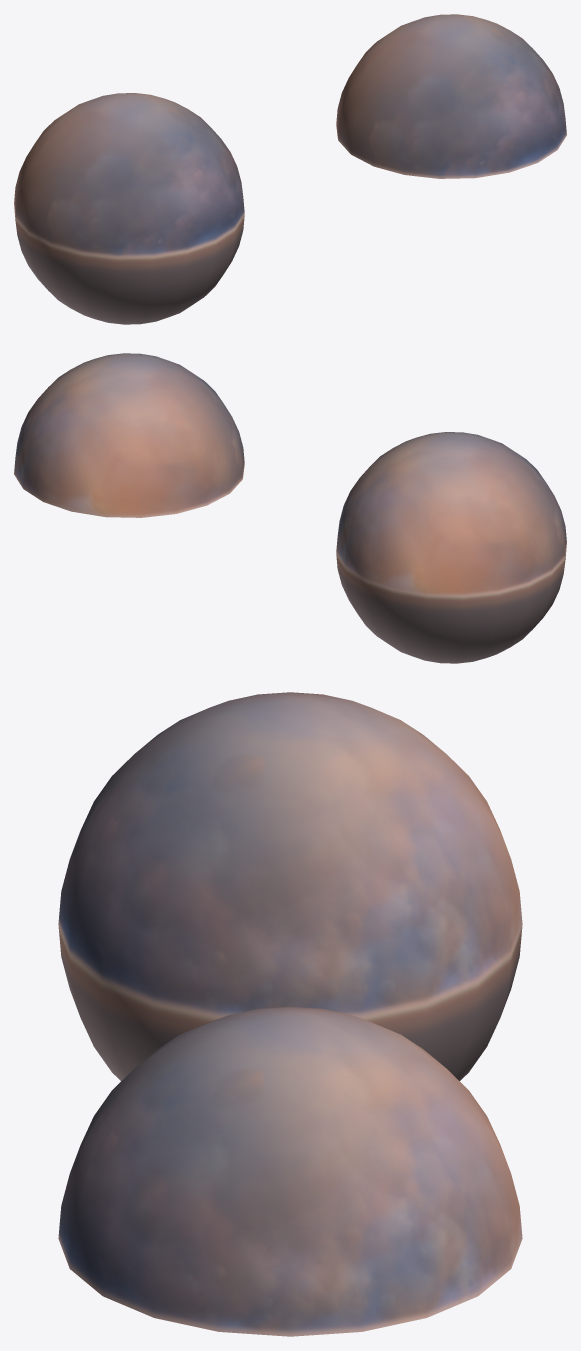
File: skybox.fbx
3 renders of one model, top to bottom at view 1: azimuth 30°, elevation 25°; view 2: azimuth 150°, elevation 25°; view 3: azimuth 270°, elevation 25°, orthographic. The views are drawn at different scales.
Parts seen in each view (by area): view 1: pSphere1, pSphere2; view 2: pSphere1, pSphere2; view 3: pSphere1, pSphere2.
Part boxes in pixels (<box>): pSphere1: <box>14,93,244,324</box>; pSphere2: <box>336,14,566,178</box>; pSphere1: <box>336,432,566,663</box>; pSphere2: <box>14,353,244,517</box>; pSphere1: <box>58,692,522,1080</box>; pSphere2: <box>58,1006,522,1336</box>.
Bounding box in the file's own units: 19.01 × 7.3 × 7.3.
1 material, 1 textured.
